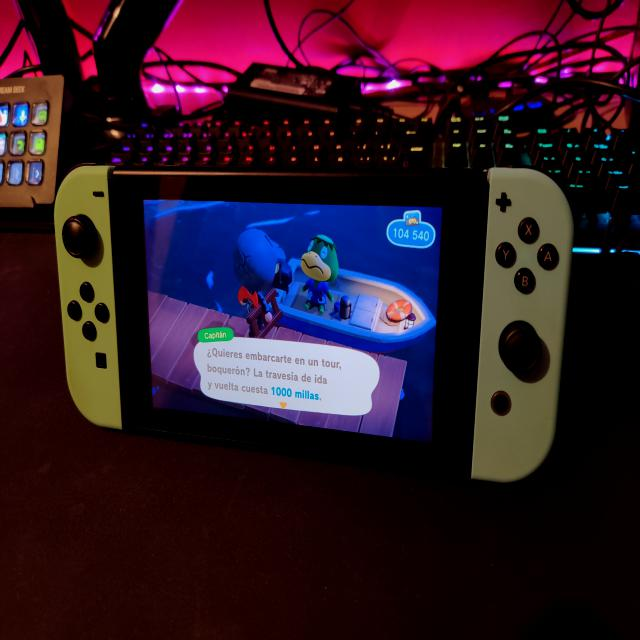text_bubble: (194, 325, 382, 418)
